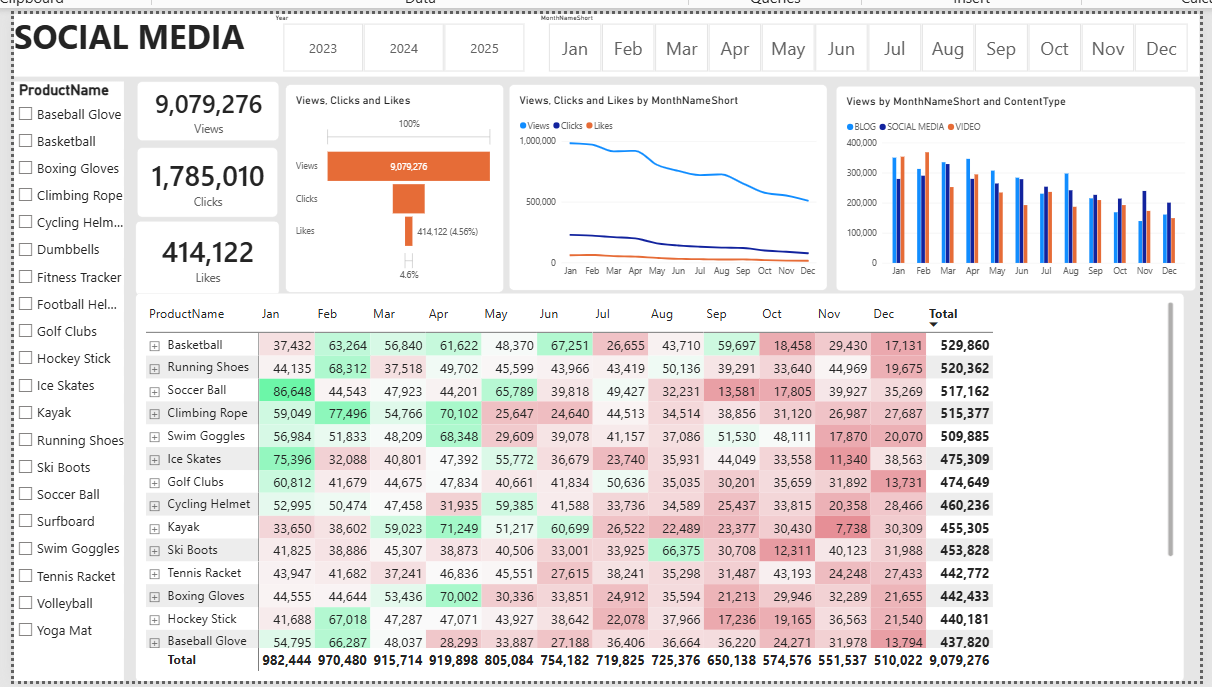

This screenshot's page, from the dashboard's own definition file:
{"tool":"powerbi","page":{"name":"Social Media","canvas":[1920,1080],"ordinal":2},"visuals":[{"type":"textbox","box":[0,0,1919.2,101.5],"z":0},{"type":"slicer","fields":{"Values":["dm_products.ProductName"]},"box":[0,109,178.3,970.7],"z":1000},{"type":"textbox","box":[178.3,624,237.7,227.8],"z":2000},{"type":"textbox","box":[505.2,109,260,309.5],"z":3000},{"type":"cardVisual","fields":{"Data":["_Calculations.Views"]},"box":[198.1,109,230.3,96.6],"z":4000},{"type":"cardVisual","fields":{"Data":["_Calculations.Clicks"]},"box":[198.1,215.4,228.7,113.9],"z":5000},{"type":"cardVisual","fields":{"Data":["_Calculations.LIKES"]},"box":[195.6,334.3,233.6,121.3],"z":6000},{"type":"slicer","fields":{"Values":["Calendar.Year"]},"box":[415.3,0,429.9,94.7],"z":7000},{"type":"slicer","fields":{"Values":["Calendar.MonthNameShort"]},"box":[845.2,0,1073.5,94.7],"z":8000},{"type":"funnel","fields":{"Y":["_Calculations.Views","_Calculations.Clicks","_Calculations.LIKES"]},"box":[440.8,113.9,353.3,336.8],"z":9000},{"type":"lineChart","fields":{"Category":["Calendar.MonthNameShort"],"Y":["_Calculations.Views","_Calculations.Clicks","_Calculations.LIKES"]},"box":[802.3,113.9,515.1,333.5],"z":10000},{"type":"clusteredColumnChart","fields":{"Category":["Calendar.MonthNameShort"],"Series":["fact_engagement_data.ContentType"],"Y":["_Calculations.Views"]},"box":[1329.8,116.4,582.8,331.8],"z":11000},{"type":"pivotTable","fields":{"Columns":["Calendar.MonthNameShort"],"Rows":["dm_products.ProductName","fact_engagement_data.ContentType"],"Values":["_Calculations.Views"]},"box":[196.7,451.8,1697.8,629.1],"z":11001}]}

Visuals, with their boxes on the page's 1920x1080 design canvas (x1, y1, x2, y2). These are canvas units, not pixel positions in the 1212x687 screenshot, which may show the page scaled, cropped or inside an application window:
textbox: locate(0, 0, 1919, 102)
slicer - dm_products.ProductName: locate(0, 109, 178, 1080)
textbox: locate(178, 624, 416, 852)
textbox: locate(505, 109, 765, 418)
cardVisual - _Calculations.Views: locate(198, 109, 428, 206)
cardVisual - _Calculations.Clicks: locate(198, 215, 427, 329)
cardVisual - _Calculations.LIKES: locate(196, 334, 429, 456)
slicer - Calendar.Year: locate(415, 0, 845, 95)
slicer - Calendar.MonthNameShort: locate(845, 0, 1919, 95)
funnel - _Calculations.Views x _Calculations.Clicks: locate(441, 114, 794, 451)
lineChart - Calendar.MonthNameShort x _Calculations.Views: locate(802, 114, 1317, 447)
clusteredColumnChart - Calendar.MonthNameShort x fact_engagement_data.ContentType: locate(1330, 116, 1913, 448)
pivotTable - Calendar.MonthNameShort x dm_products.ProductName: locate(197, 452, 1894, 1081)
